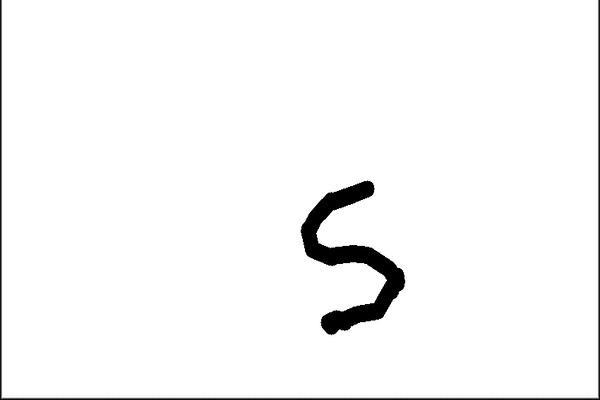S: (292, 176, 415, 335)
